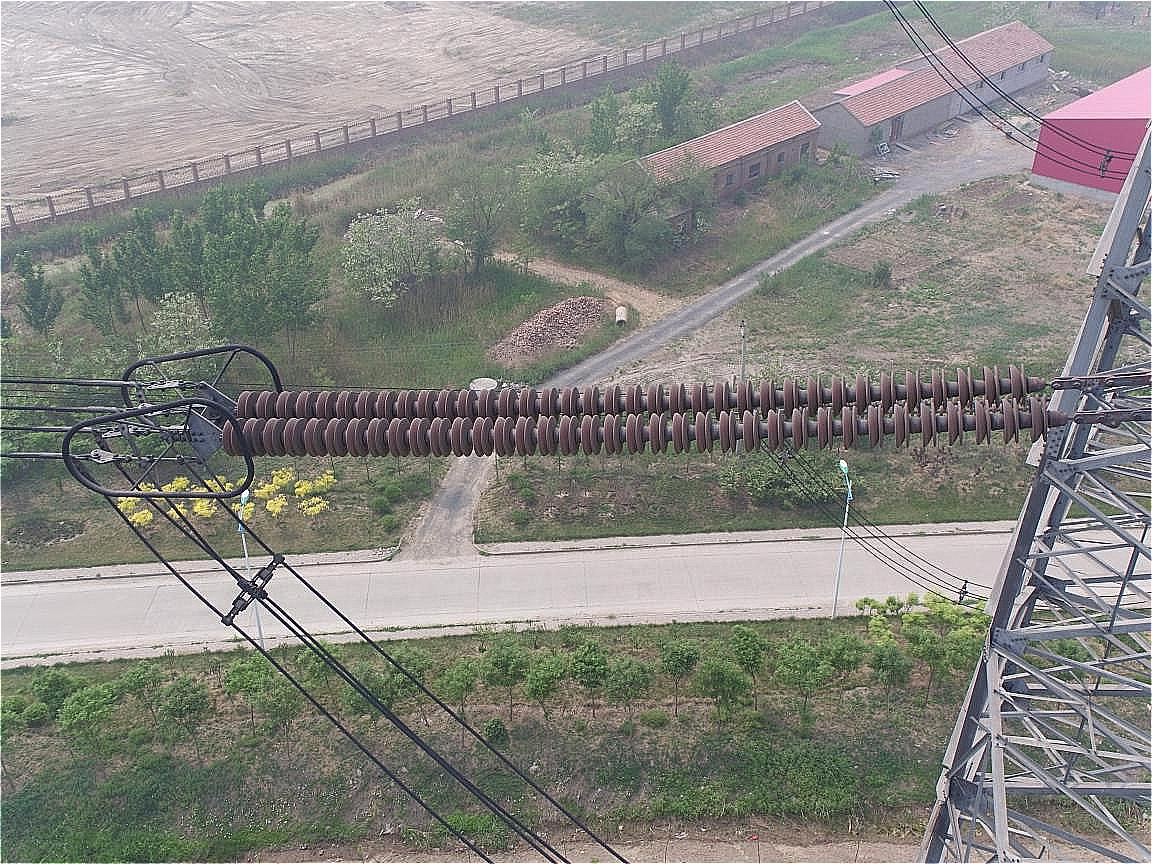insultor2: (190, 367, 1074, 467)
